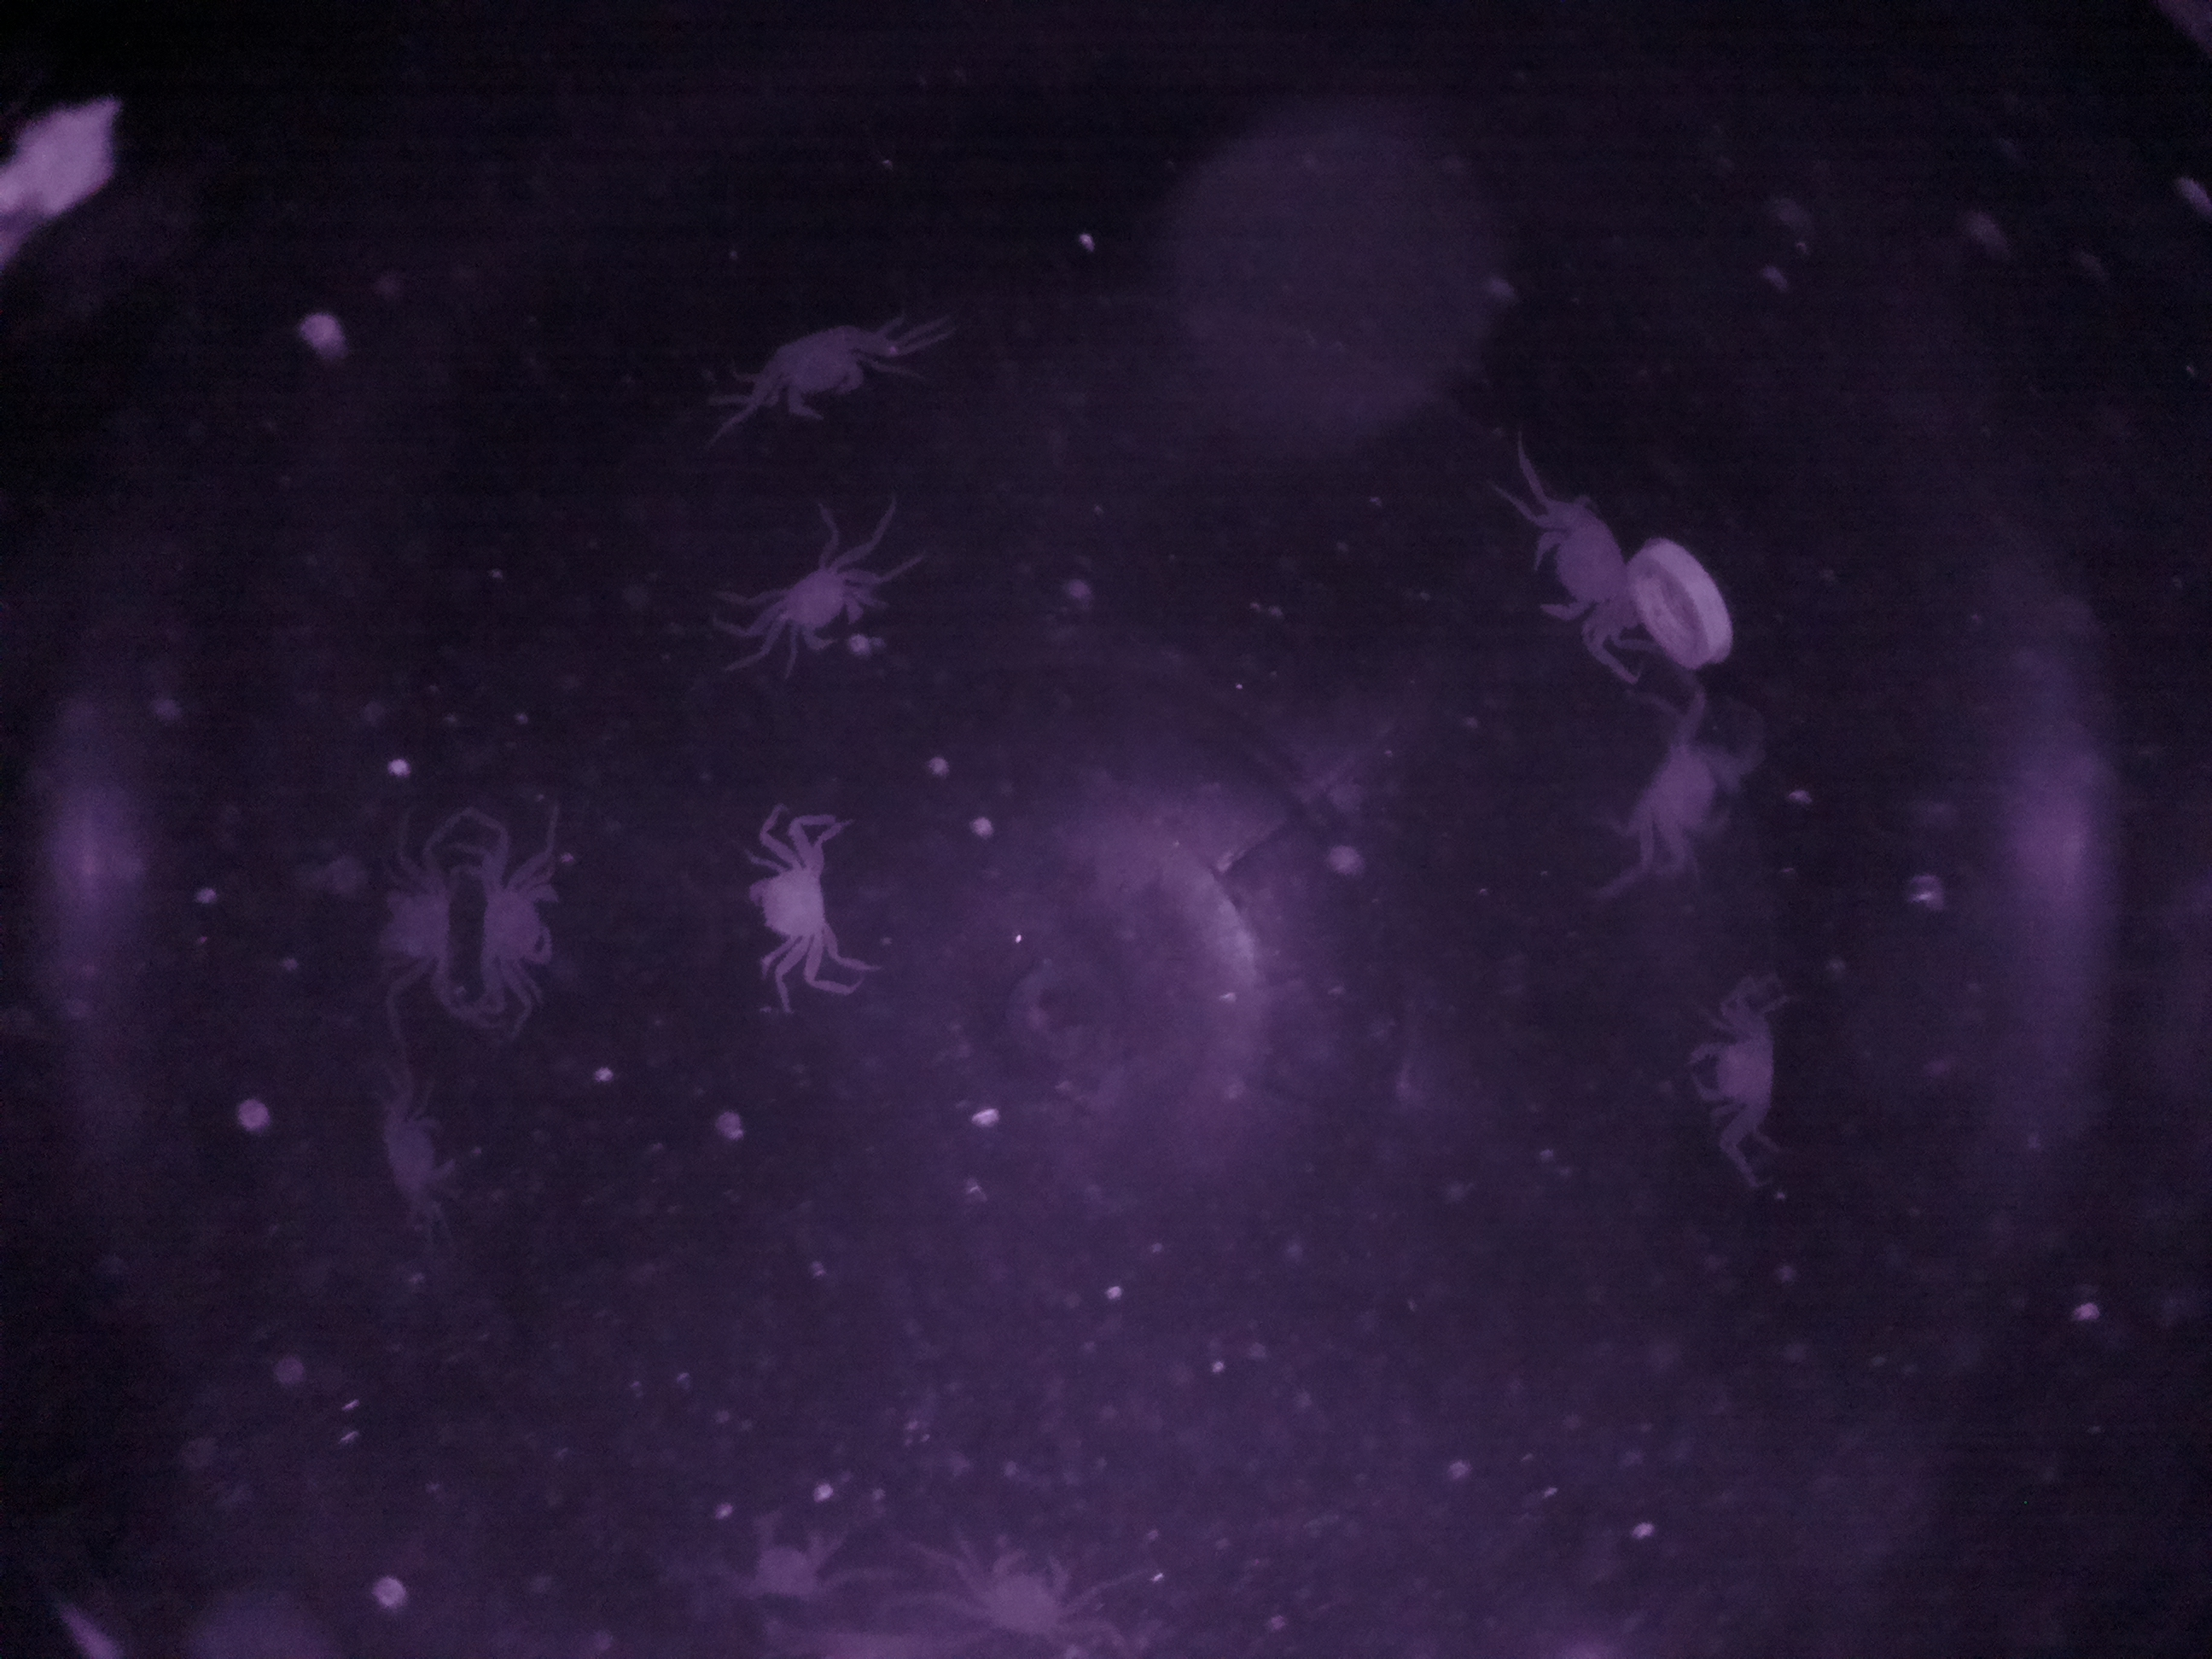Crab: (1670, 976, 1818, 1162), (712, 821, 876, 985), (1501, 481, 1656, 647), (732, 301, 899, 451), (948, 1504, 1106, 1659), (749, 528, 899, 683), (467, 833, 580, 1021)
